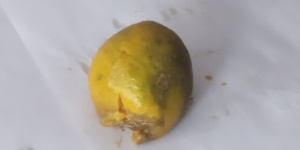BAD: (90, 20, 196, 143)
